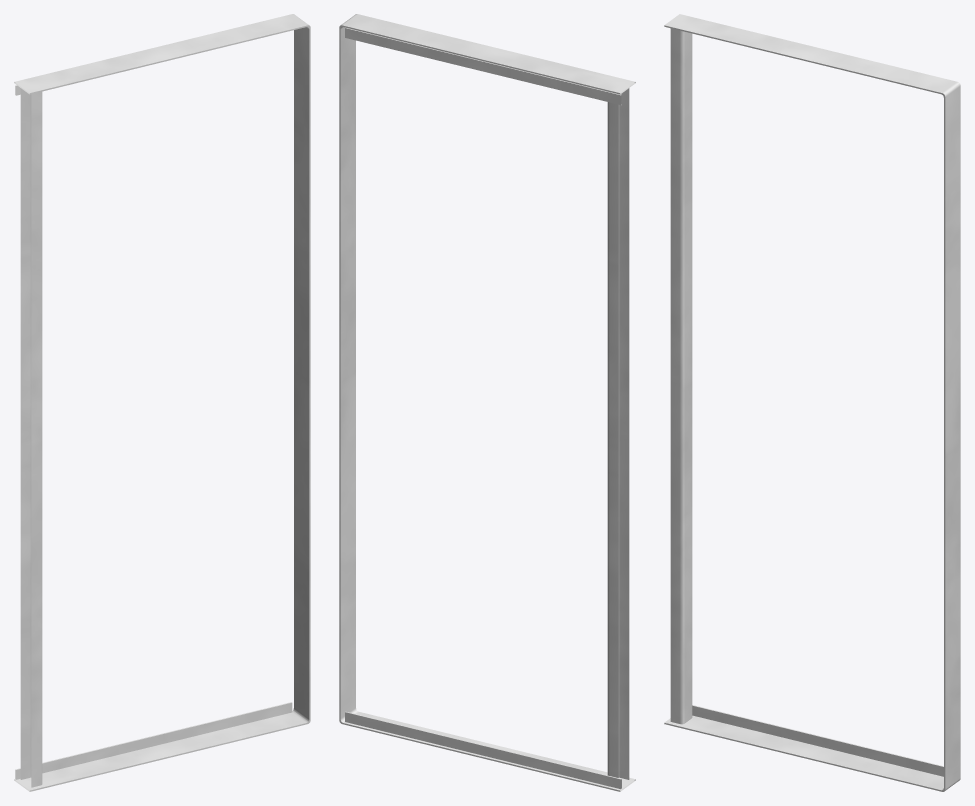
Rendered from ShelfMetalFrame100cm.obj.
3 renders of one model, left to right at view 1: azimuth 30°, elevation 25°; view 2: azimuth 150°, elevation 25°; view 3: azimuth 330°, elevation 25°, orthographic.
Visible parts, largest first — view 1: ShelfMetalFrame100cm; view 2: ShelfMetalFrame100cm; view 3: ShelfMetalFrame100cm.
Part boxes in pixels (x1=…): ShelfMetalFrame100cm: x1=14, y1=14, x2=310, y2=791; ShelfMetalFrame100cm: x1=339, y1=14, x2=635, y2=791; ShelfMetalFrame100cm: x1=664, y1=14, x2=960, y2=791.
Size of the model in its own units: 0.419 by 0.9958 by 0.04.
1 material, 1 textured.
